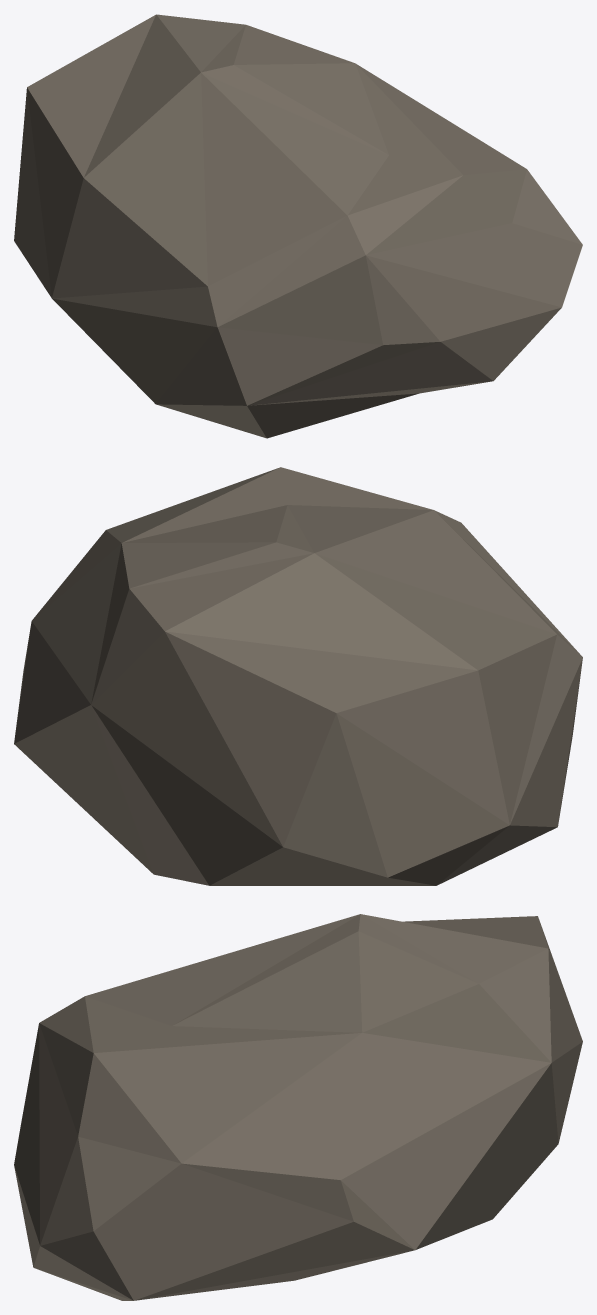
File: Mosh 13.FBX
The picture shows the model from 3 angles, top to bottom: view 1: azimuth 30°, elevation 25°; view 2: azimuth 150°, elevation 25°; view 3: azimuth 270°, elevation 25°; orthographic projection. The views are drawn at different scales.
Visible parts, largest first — view 1: cube; view 2: cube; view 3: cube.
Part boxes in pixels (x1,y1,x2,y2): cube: (14, 14, 582, 438); cube: (14, 467, 582, 885); cube: (14, 914, 582, 1300).
Size of the model in its own units: 72.43 by 47.18 by 75.31.
